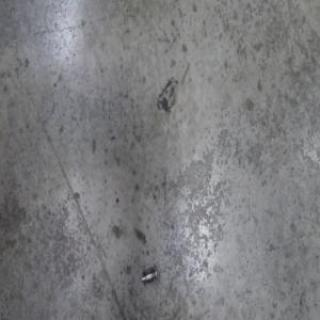Bolttrack_idkeyframe: (141, 264, 159, 286)
